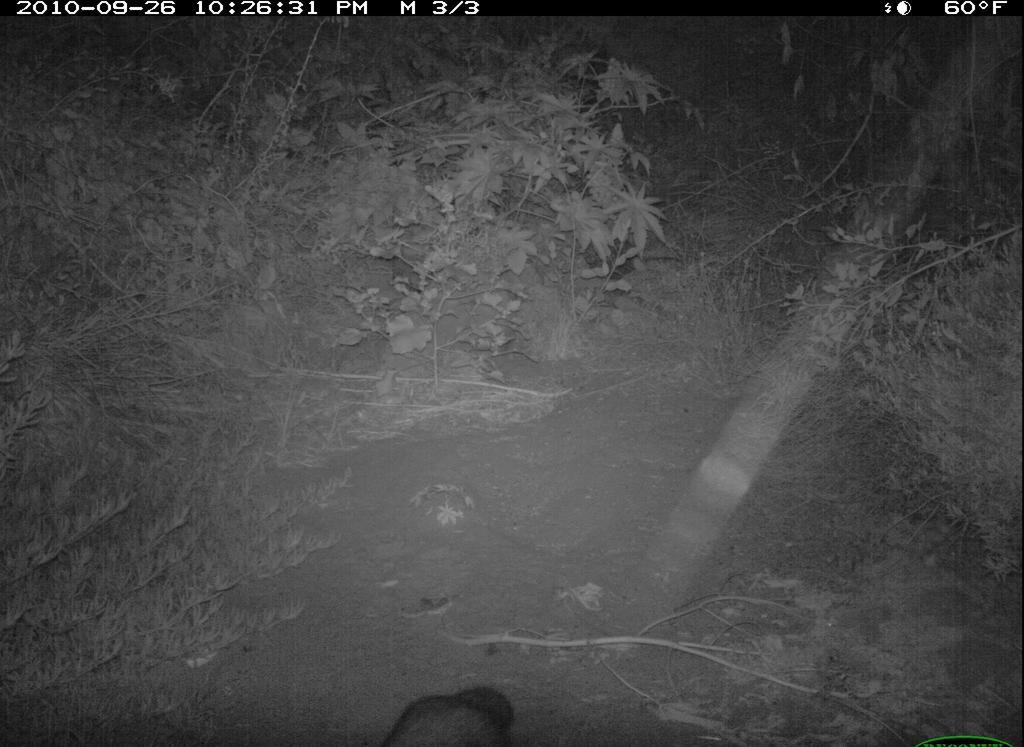raccoon: (344, 676, 530, 747)
